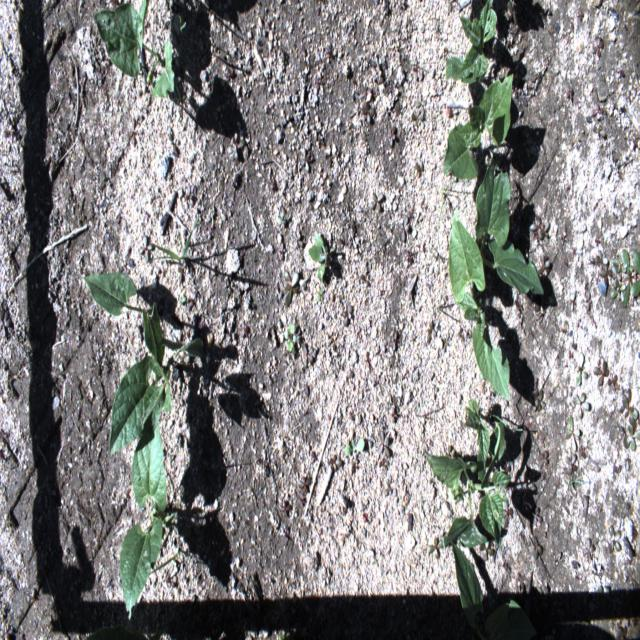crop: (423, 398, 512, 557), (447, 207, 510, 406), (120, 416, 176, 614), (474, 160, 544, 295), (451, 540, 533, 639), (94, 0, 175, 100), (441, 72, 513, 180), (446, 0, 498, 84), (149, 216, 201, 268)
weed: (83, 270, 204, 458), (593, 244, 638, 314), (306, 231, 332, 288), (618, 385, 637, 456), (299, 332, 320, 378), (589, 359, 611, 394), (282, 317, 297, 368), (279, 262, 298, 302), (571, 390, 593, 424), (367, 185, 386, 224), (358, 97, 378, 134), (578, 530, 599, 565), (564, 416, 584, 452), (378, 427, 397, 464), (606, 518, 625, 554), (344, 434, 368, 462), (528, 379, 546, 416), (396, 213, 412, 254), (296, 142, 313, 180), (337, 298, 356, 332), (226, 133, 247, 162), (531, 214, 552, 243), (326, 447, 345, 479), (537, 440, 554, 475), (562, 77, 582, 106), (426, 532, 442, 568), (572, 348, 588, 384), (529, 531, 545, 565), (586, 33, 604, 62), (425, 306, 438, 346), (272, 206, 290, 233), (594, 579, 613, 603), (296, 472, 310, 503), (278, 493, 292, 524), (409, 51, 423, 82), (566, 453, 580, 479), (416, 93, 428, 122), (237, 314, 250, 340), (594, 122, 608, 146), (385, 123, 398, 147), (389, 394, 399, 423), (584, 281, 592, 314), (413, 158, 426, 178), (622, 451, 631, 479), (292, 226, 302, 251), (315, 288, 330, 300), (609, 378, 617, 397)
